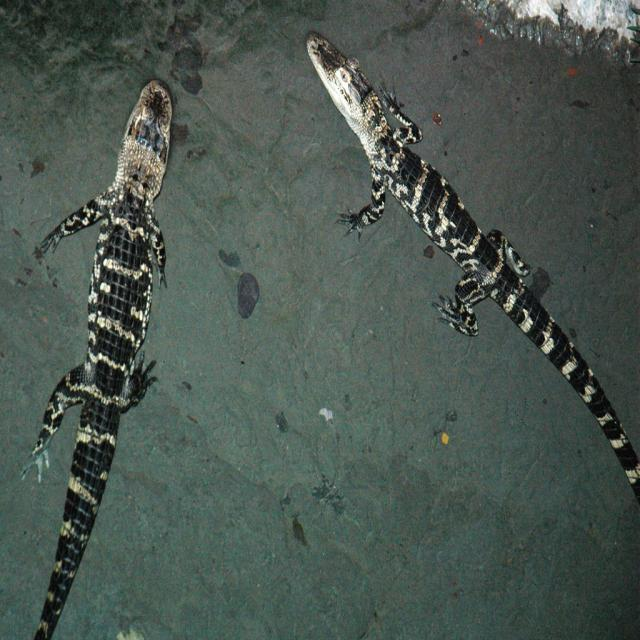crocodile: (308, 30, 639, 499), (30, 90, 174, 633)
